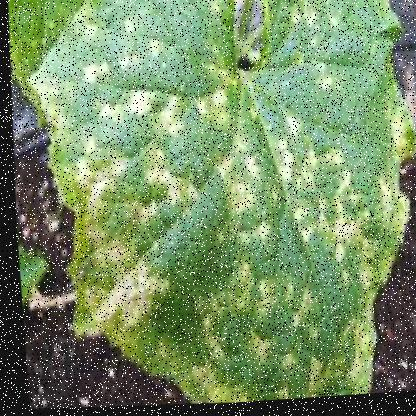DownyMildew: (66, 23, 383, 405)
